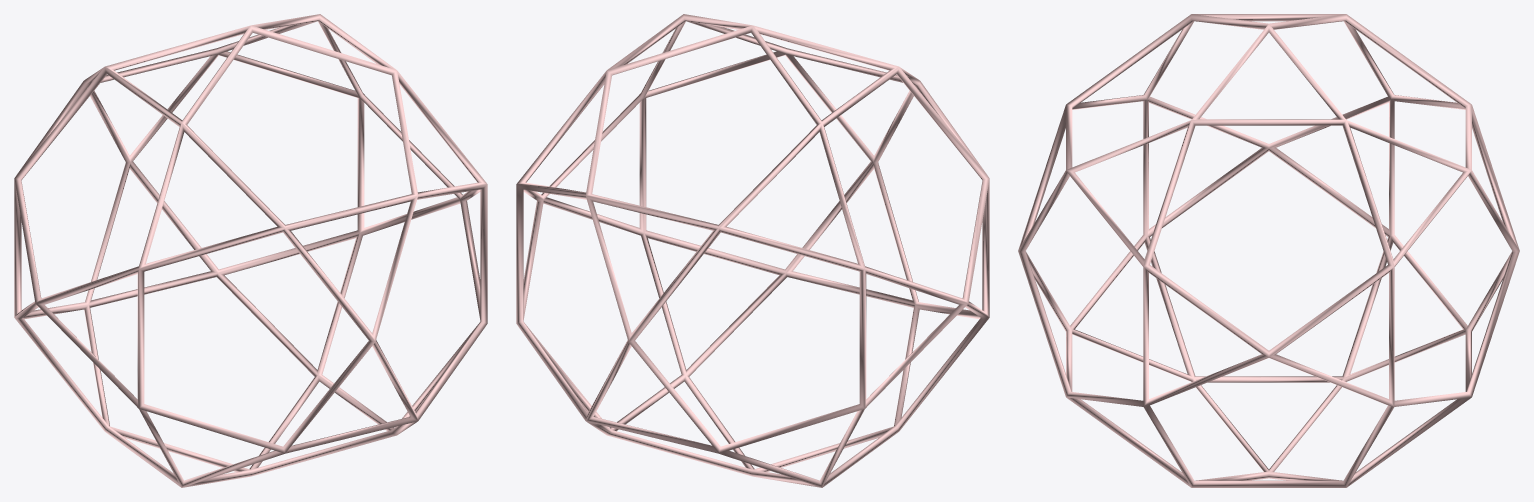
The model's file is Icosidodecahedron2.glb.
3 views of the same model, side by side, from view 1: azimuth 30°, elevation 25°; view 2: azimuth 150°, elevation 25°; view 3: azimuth 270°, elevation 25° (orthographic).
Visible parts, largest first — view 1: Icosidodecahedron; view 2: Icosidodecahedron; view 3: Icosidodecahedron.
Boxes of the visible parts, x1,y1,x2,y2 form: Icosidodecahedron: [14, 14, 487, 487]; Icosidodecahedron: [516, 14, 989, 487]; Icosidodecahedron: [1018, 14, 1519, 487].
Bounding box in the file's own units: 3.29 × 3.29 × 3.29.
